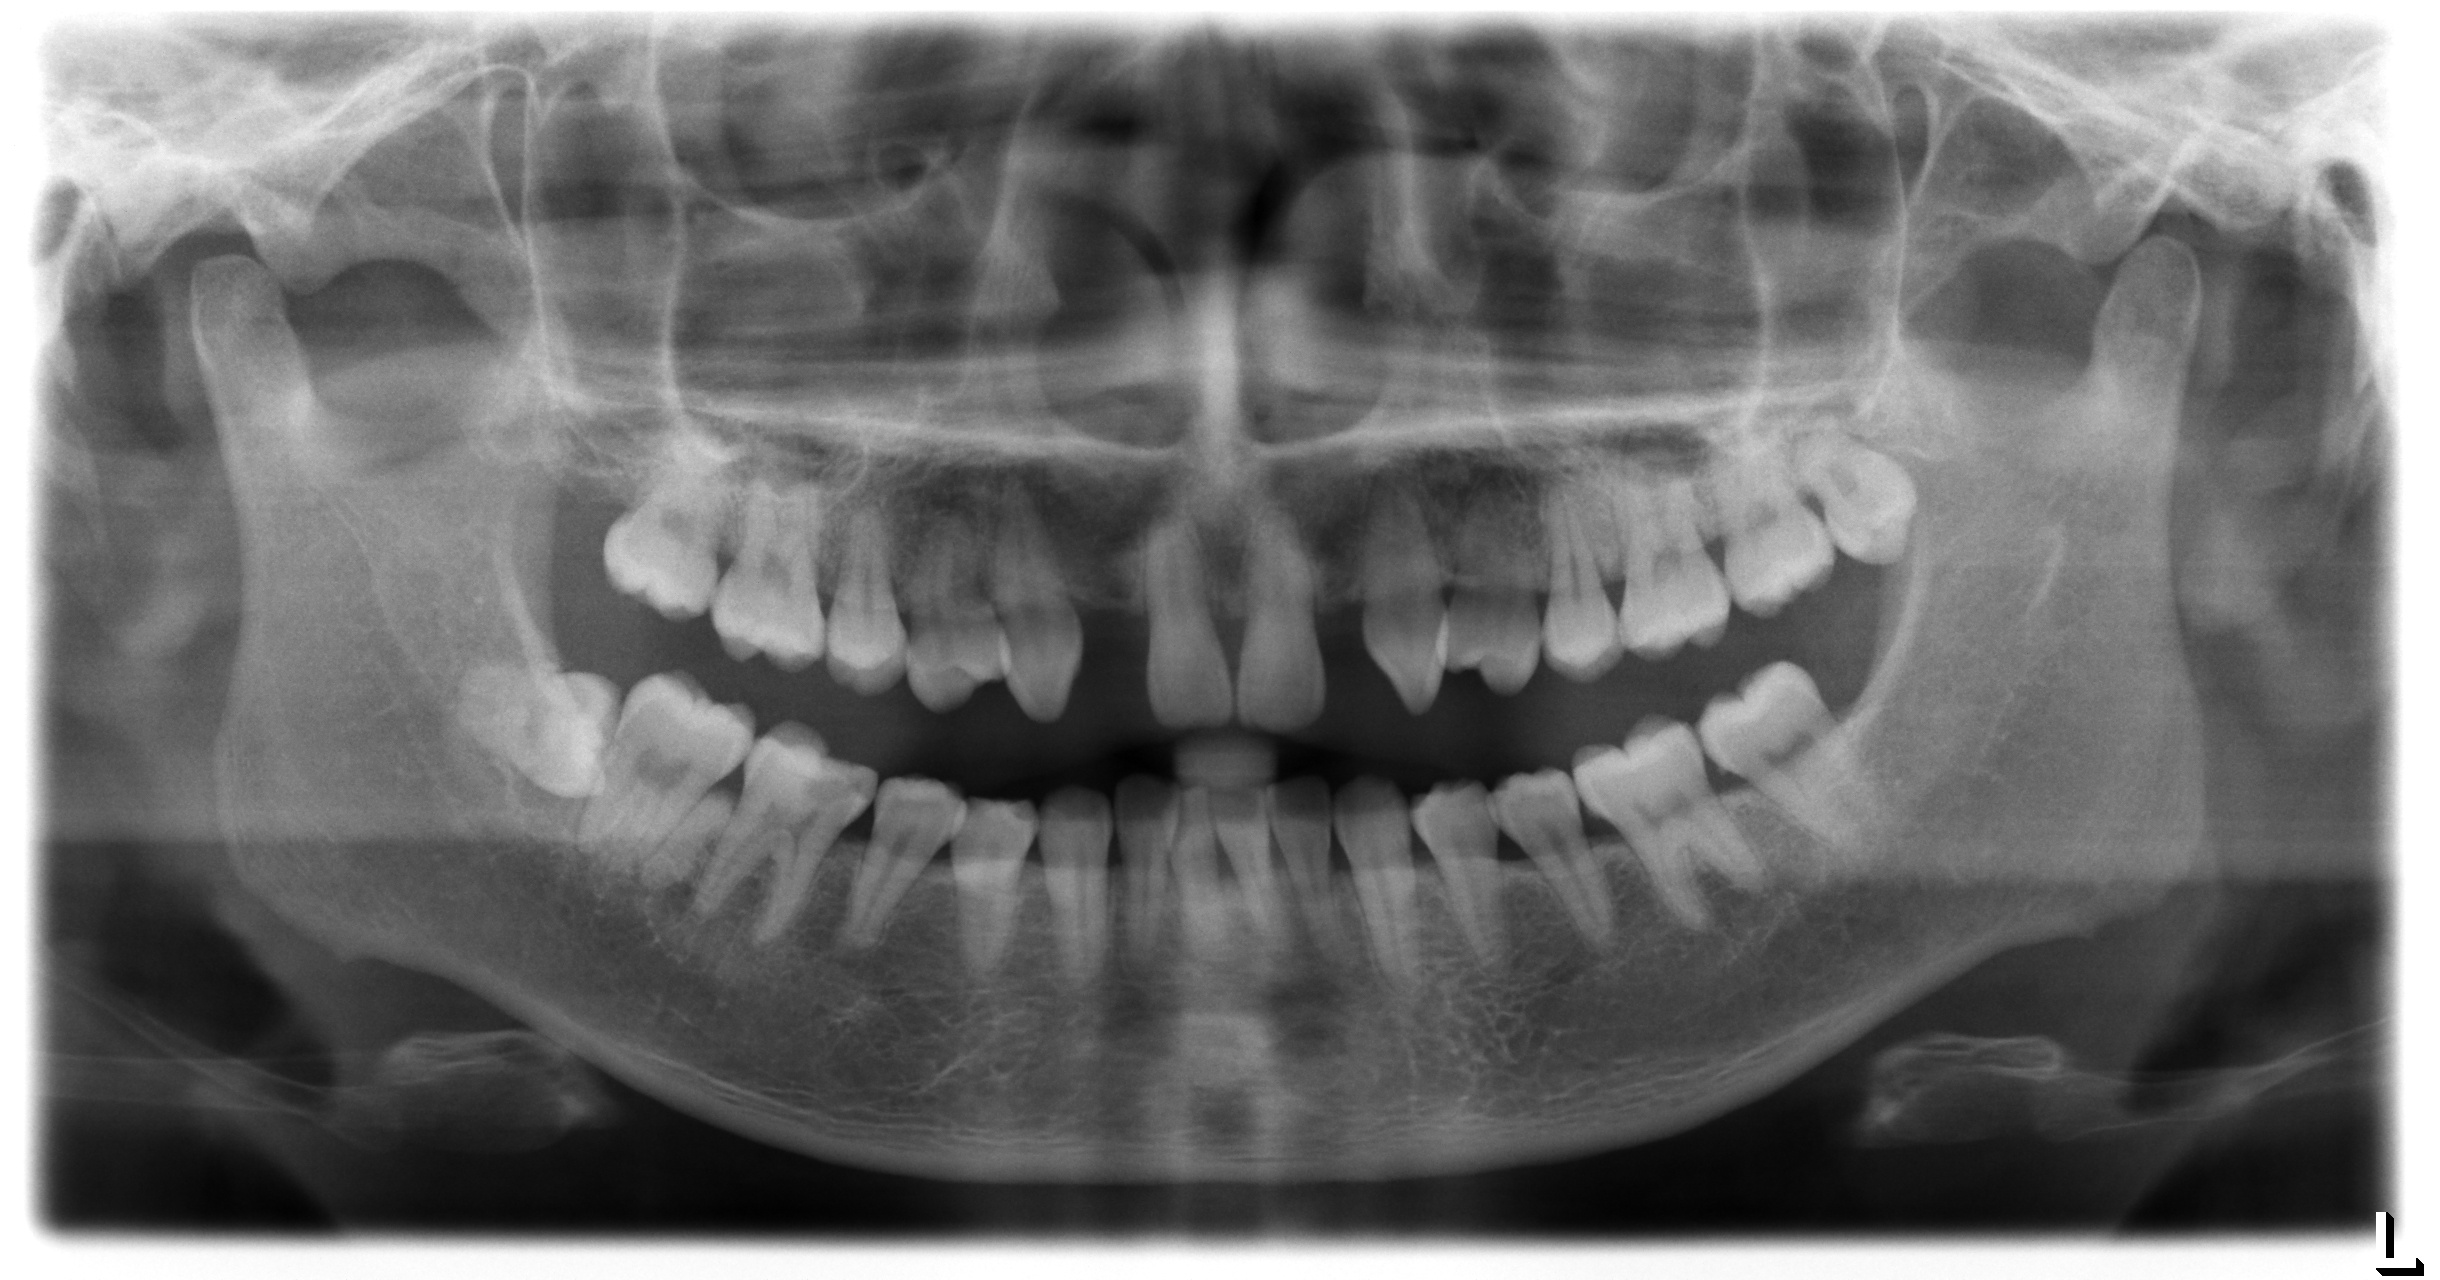Decay: (797, 749, 876, 817)
